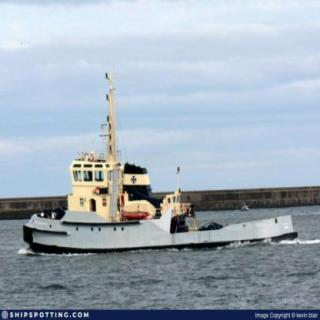Tug Boat: (21, 65, 302, 250)
